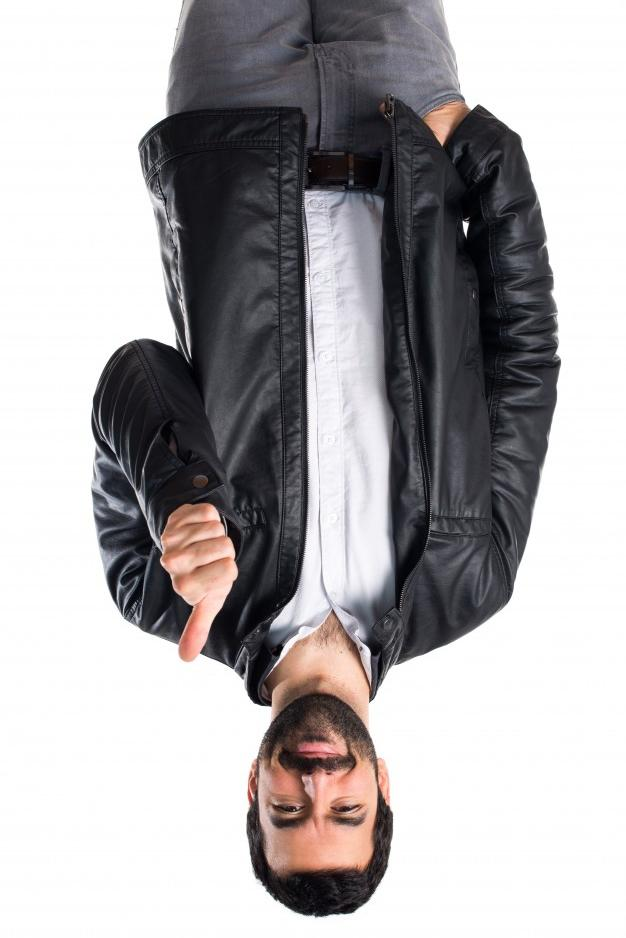thumbsdown: (159, 504, 238, 663)
